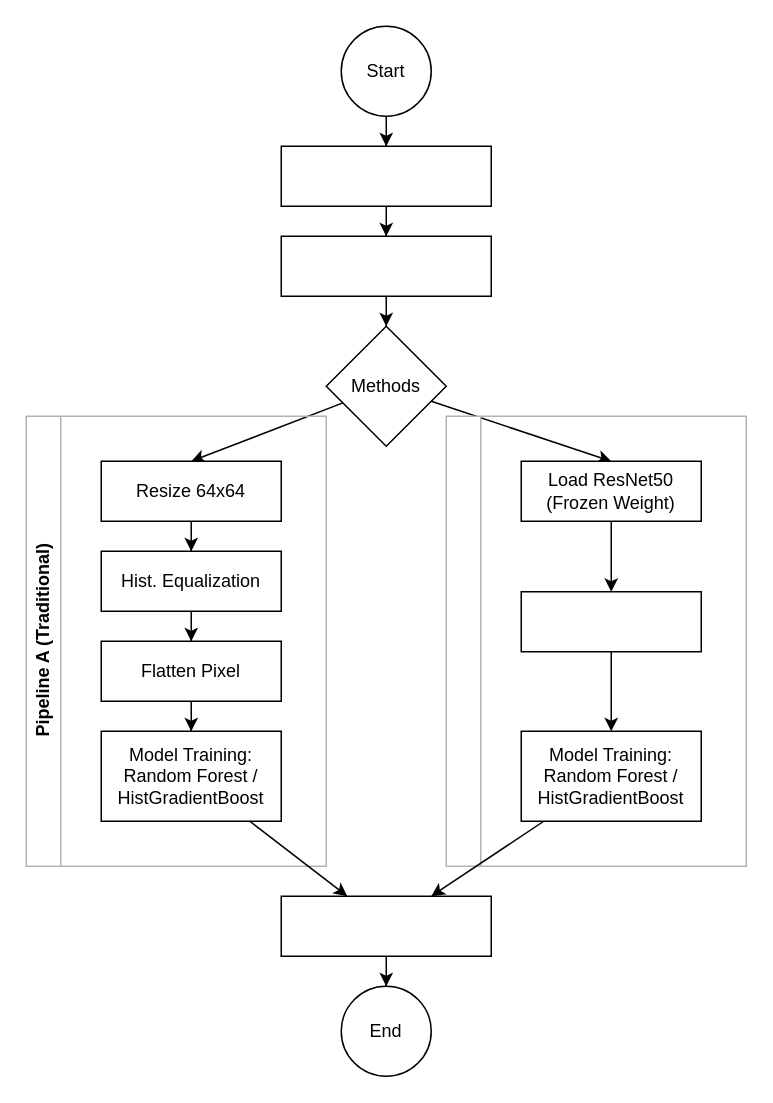
Some shapes in this 773 by 1103 pixel diagram are drawn without their labels. The box of each missing label's shape, as (x1, y1, x2, y2) in pixels:
Feature Extraction (Vector 2048): (520, 590, 701, 652)
Input 20.000 Images: (280, 145, 491, 206)
Model Evaluation: (280, 895, 491, 956)
Pipeline B (Hybrid Deep Learning): (445, 415, 746, 866)
Validation & Cleaning: (280, 235, 491, 296)
